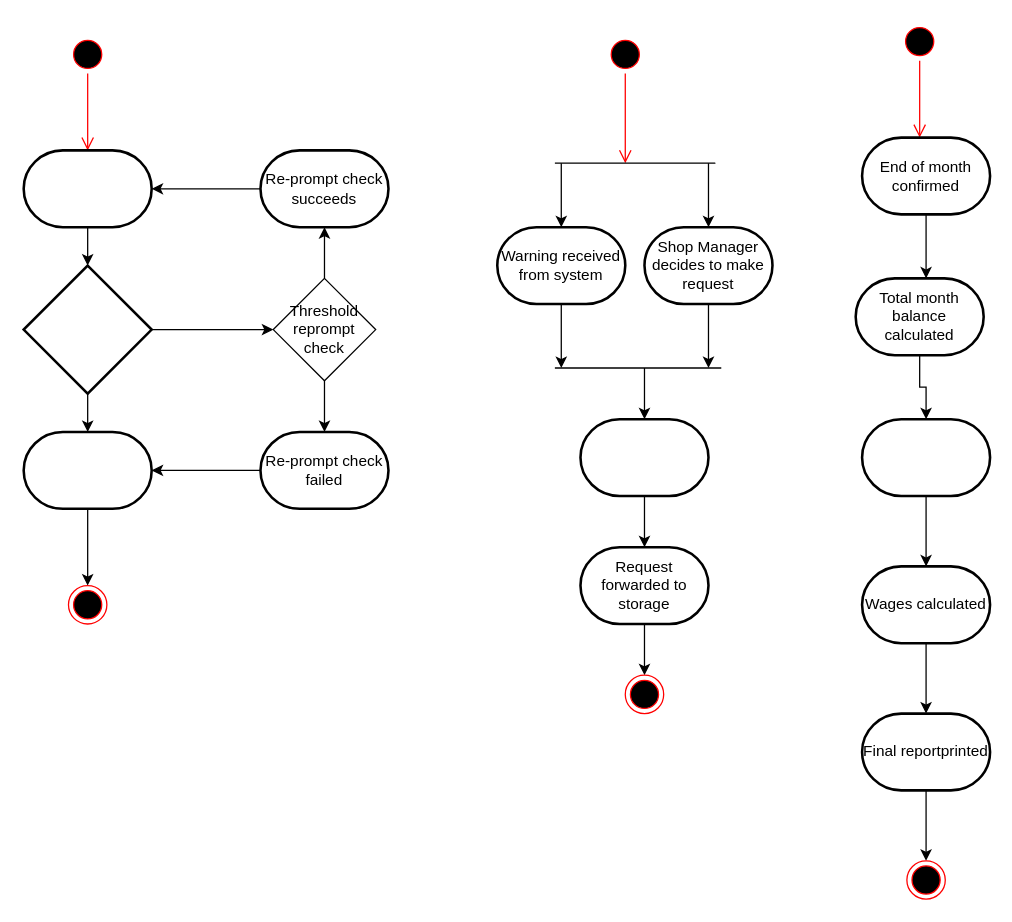
Some shapes in this 1012 by 922 pixel diagram are drawn without their labels. Here are the shapes that lost their labels. From the top down, the box of each, then its label:
(22, 148, 152, 228): User accesses the log in interface
(22, 264, 152, 394): User attempts log in
(22, 430, 152, 509): User is now logged in
(579, 417, 709, 497): Administrator receives request
(860, 417, 991, 497): Tax calculation added
